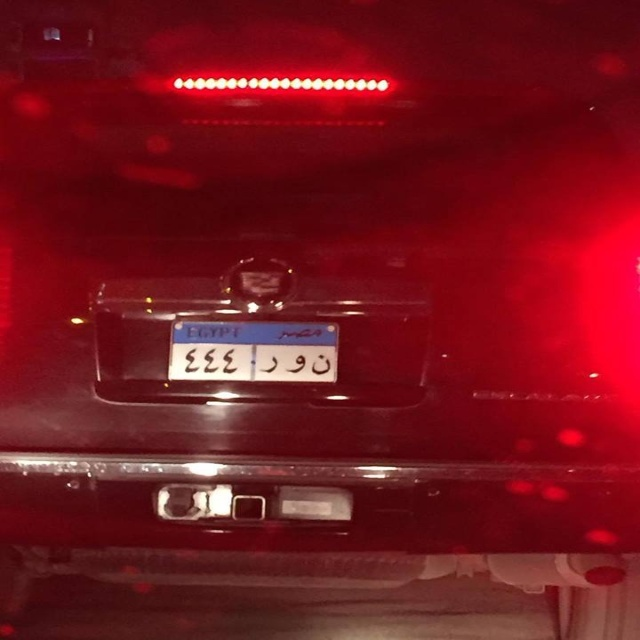License Plate: (167, 318, 340, 385)
